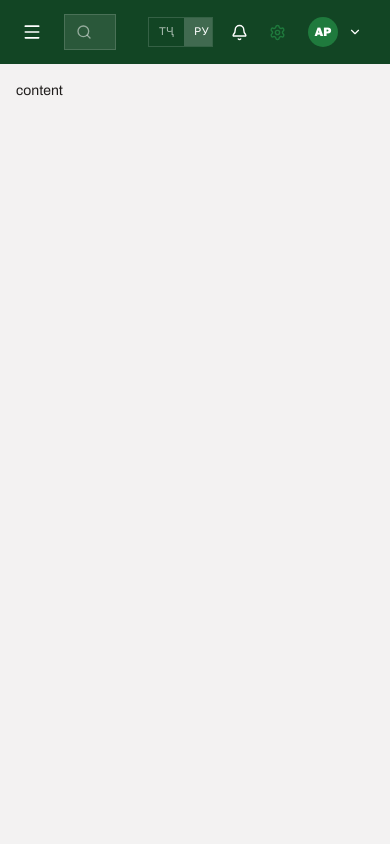
Test: Responsive shell (R17) › keeps the sidebar closed until asked, and opens it from the top bar
Click the button with test id "open-nav" at (32, 32), box [16,16,48,48]
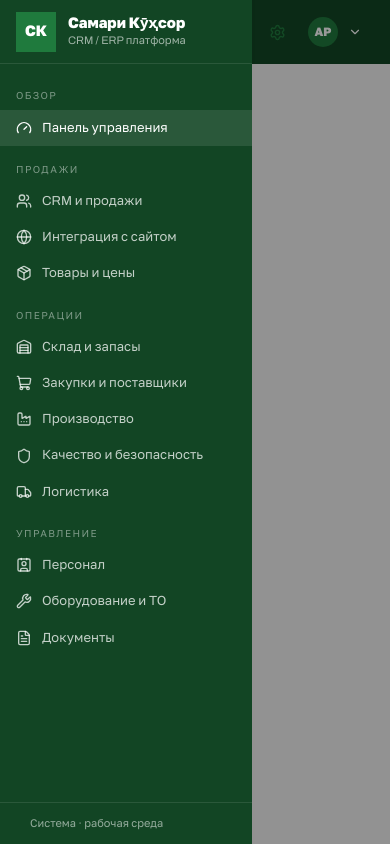
Result: the button with test id "nav-scrim" is shown
